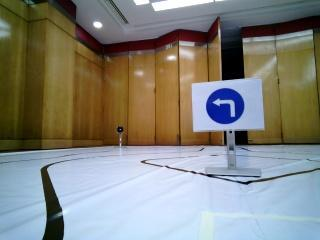left: (196, 86, 257, 124)
